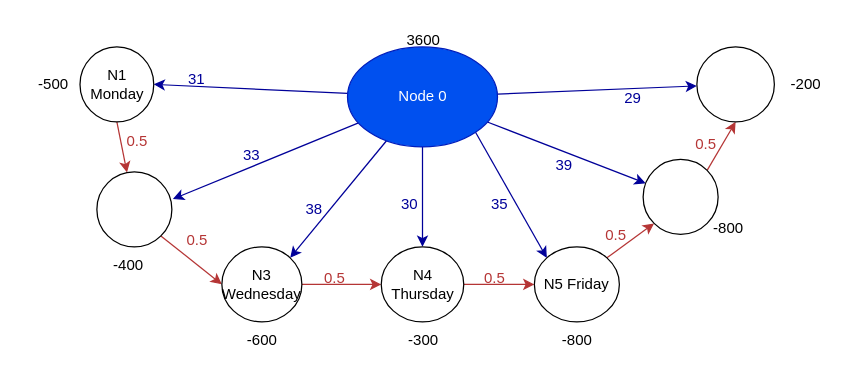
This 858x380 diagram has some shape labels left out. The shapes that lost their labels are listed below. From the top down, each one's box as (x1, y1, x2, y2) in pixels, then its label:
(696, 46, 774, 122): N6 Sunday
(96, 171, 172, 247): N2 Tuesday
(642, 158, 718, 234): N6 Saturday
